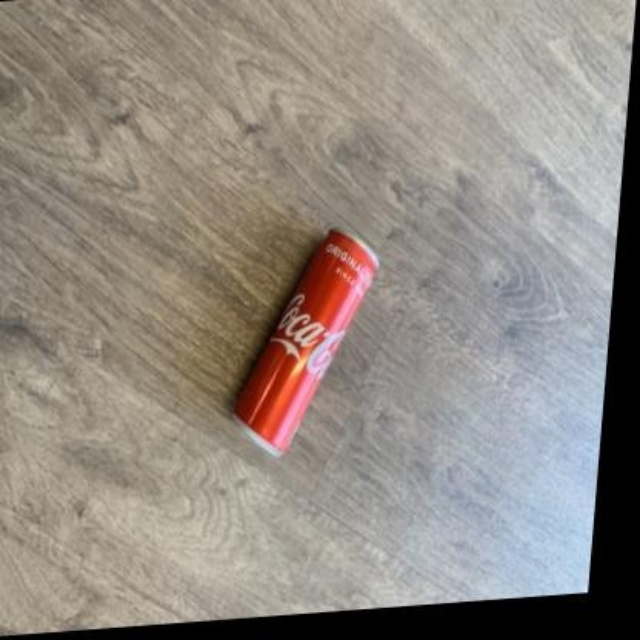trash: (235, 229, 377, 454)
